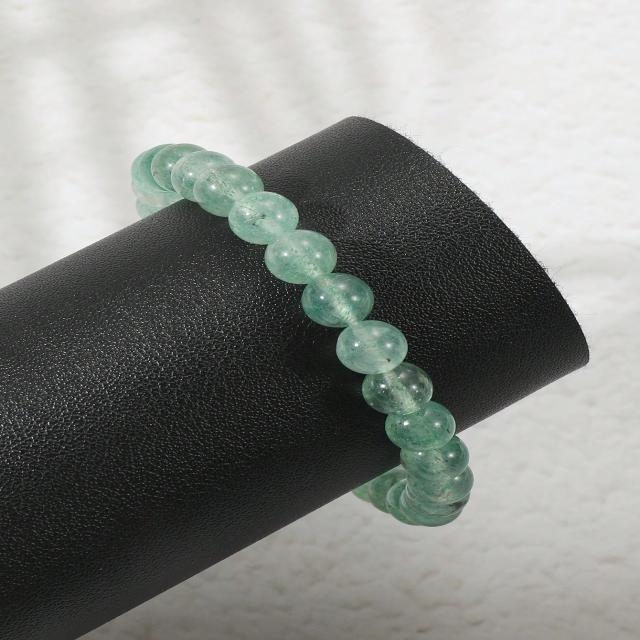bracelet: (104, 107, 558, 580)
